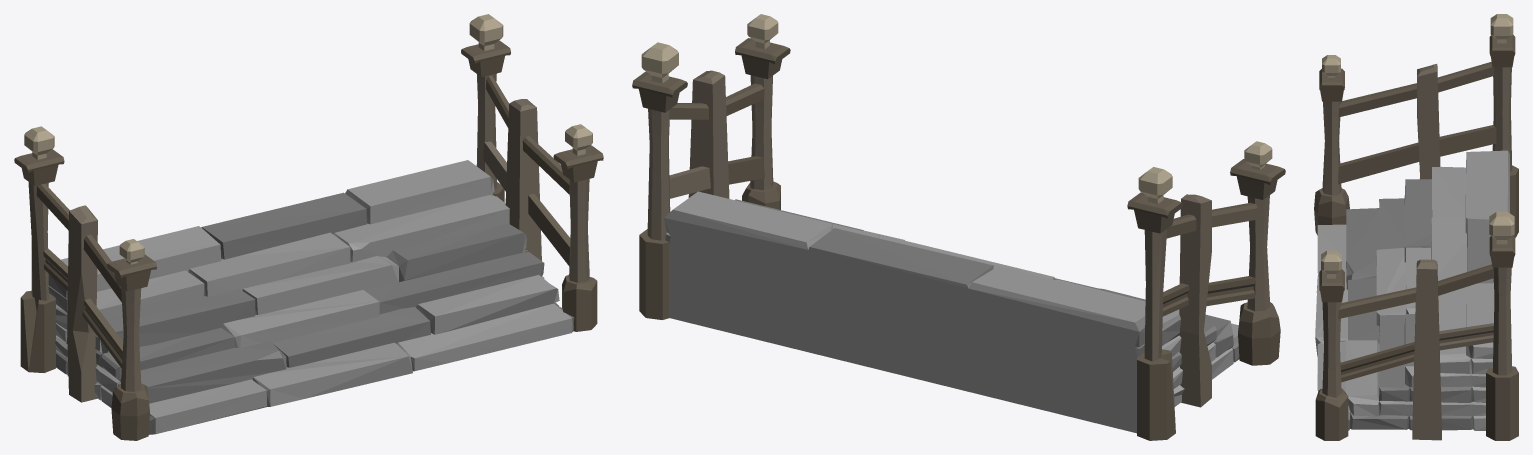
The model's file is _STAIRS_03_1.glb.
3 views of the same model, side by side, from view 1: azimuth 30°, elevation 25°; view 2: azimuth 150°, elevation 25°; view 3: azimuth 270°, elevation 25° (orthographic). The views are drawn at different scales.
Parts seen in each view (by area): view 1: STAIRS_03_1; view 2: STAIRS_03_1; view 3: STAIRS_03_1.
Boxes of the visible parts, bbox=[...] form: STAIRS_03_1: bbox=[14, 14, 603, 440]; STAIRS_03_1: bbox=[632, 14, 1285, 440]; STAIRS_03_1: bbox=[1314, 14, 1518, 440].
Bounding box in the file's own units: 2.72 × 1.29 × 1.08.
1 material, 1 textured.
